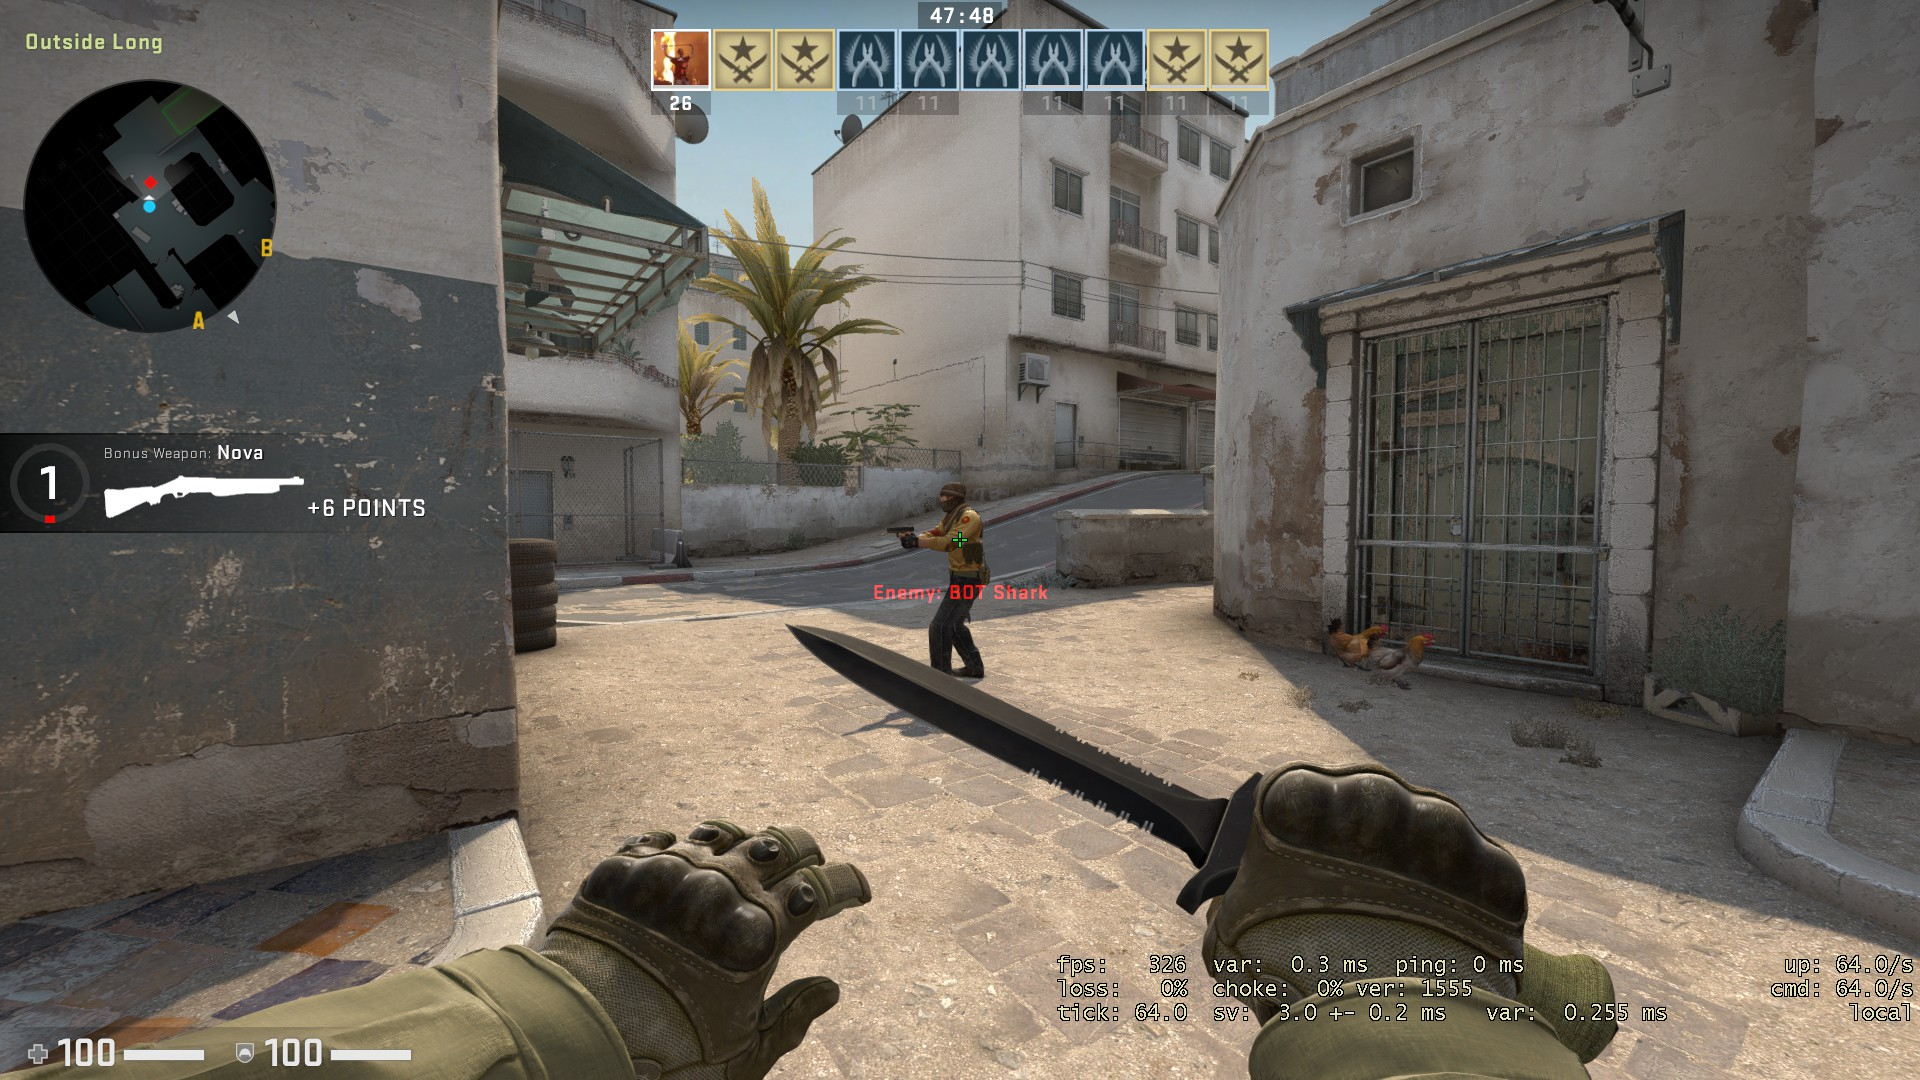player: (881, 475, 996, 683)
